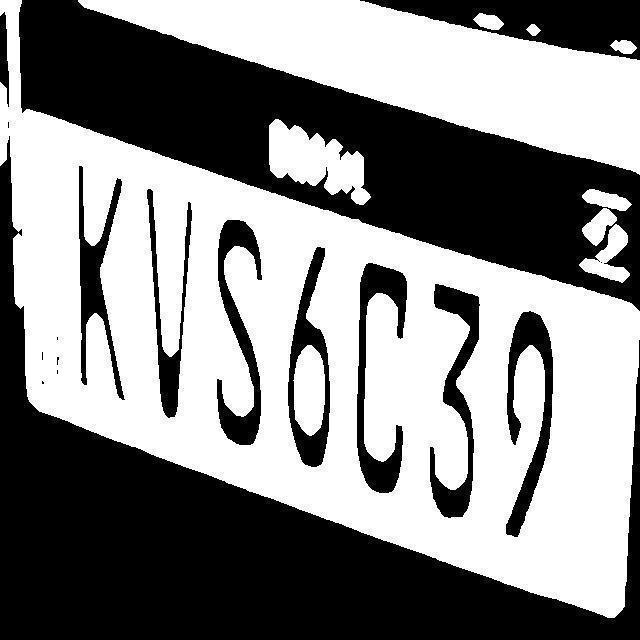3: (417, 272, 489, 527)
6: (279, 241, 337, 476)
9: (493, 304, 558, 544)
c: (344, 256, 420, 498)
k: (60, 150, 134, 404)
s: (202, 212, 272, 452)
v: (124, 176, 201, 426)
